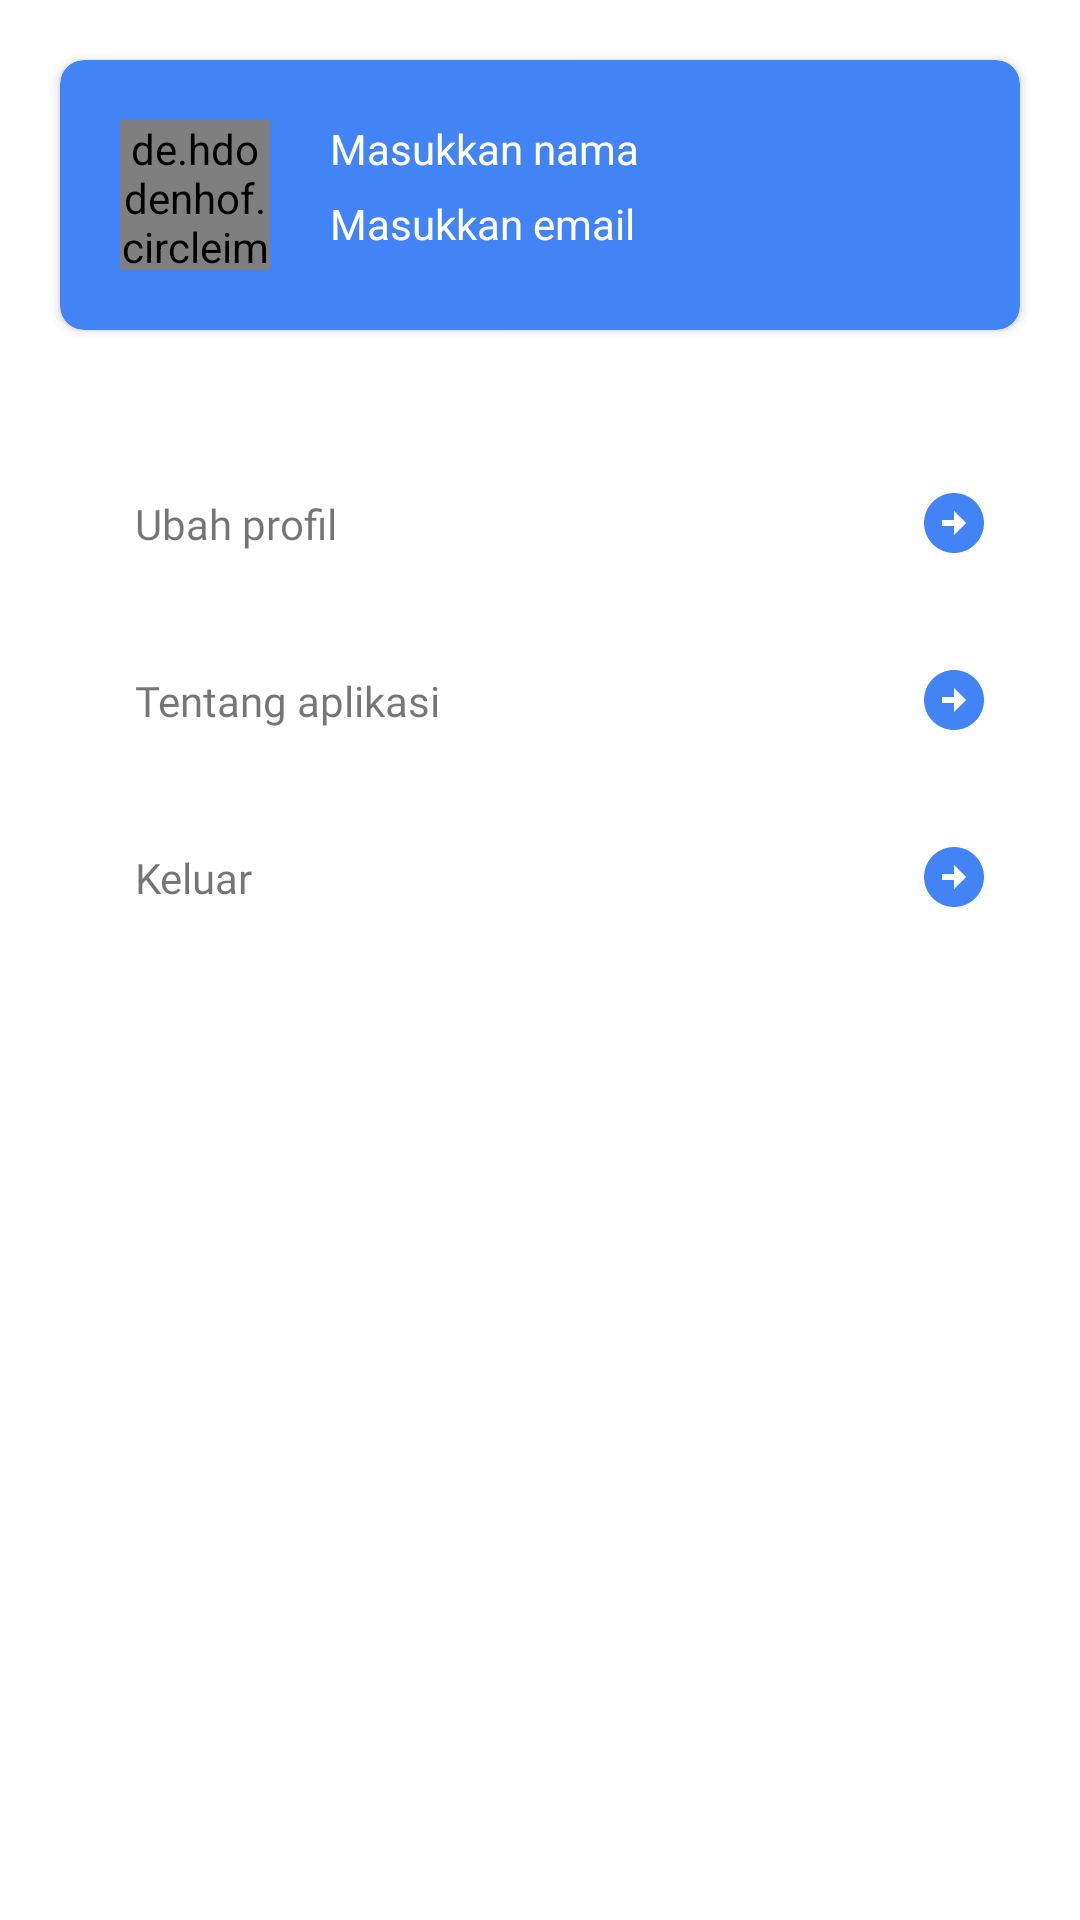

Screen size 1080 × 1920. Icon name, then its center in pixels as [x,y]:
arrow circle right: [954,523], [954,700], [954,877]
